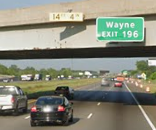1: (51, 12, 55, 21)
4: (69, 13, 75, 21), (55, 12, 60, 21)
overheadsign: (48, 11, 84, 22)
